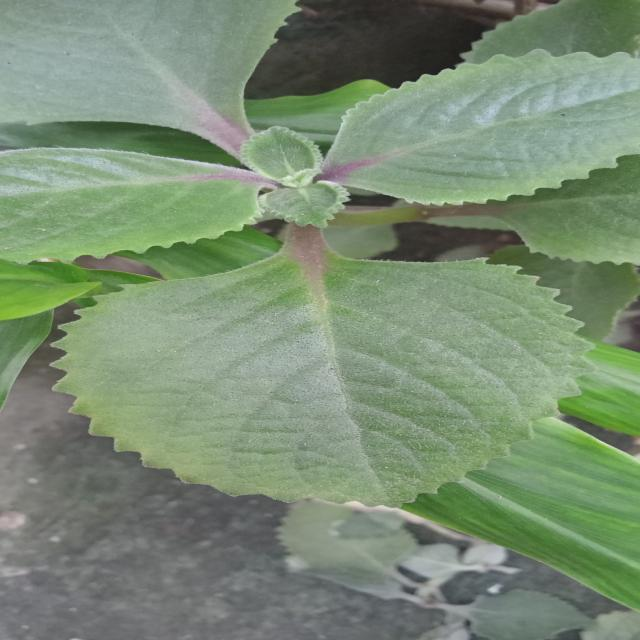Oregano: (36, 236, 620, 522)
